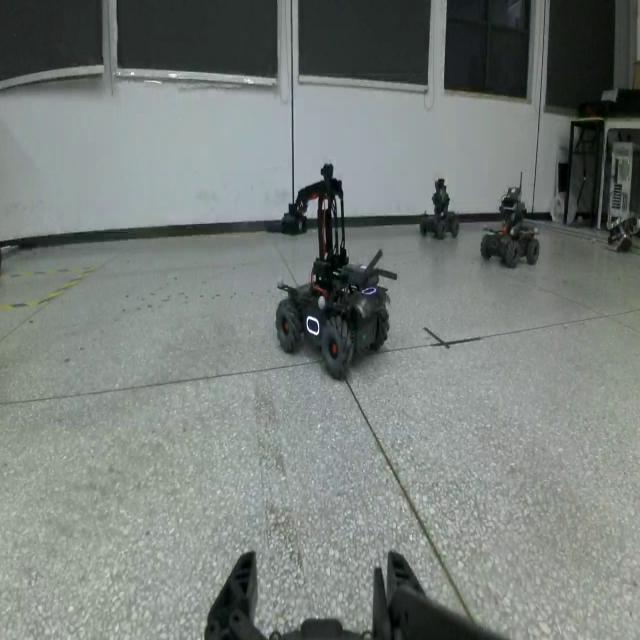ep: (266, 150, 396, 381)
s1: (475, 180, 542, 280), (420, 176, 458, 246)
